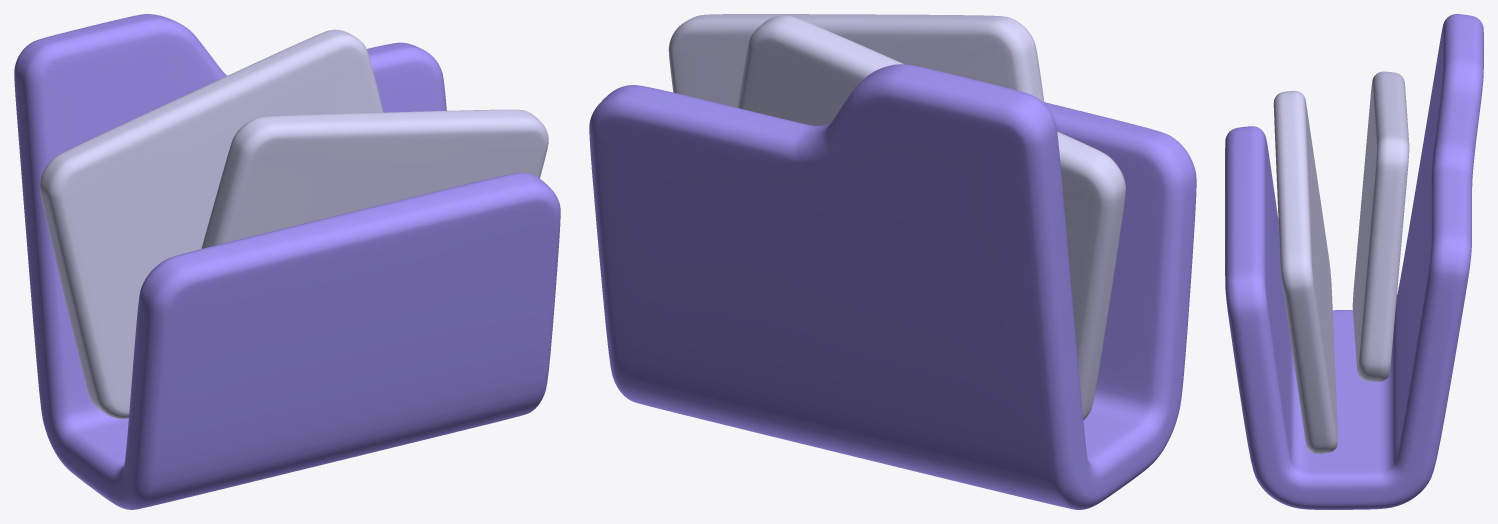
File: FileFolder.glb
3 views of the same model, side by side, from view 1: azimuth 30°, elevation 25°; view 2: azimuth 150°, elevation 25°; view 3: azimuth 270°, elevation 25° (orthographic). The views are drawn at different scales.
Parts seen in each view (by area): view 1: Plane, Plane.002, Plane.001; view 2: Plane, Plane.002, Plane.001; view 3: Plane, Plane.001, Plane.002.
Part boxes in pixels (box(x1,y1,x2,y2)): Plane: box(14, 14, 560, 509); Plane.002: box(39, 29, 383, 418); Plane.001: box(201, 109, 548, 248); Plane: box(589, 64, 1196, 509); Plane.002: box(737, 15, 1125, 420); Plane.001: box(668, 14, 1044, 107); Plane: box(1225, 14, 1483, 509); Plane.001: box(1273, 90, 1337, 453); Plane.002: box(1352, 71, 1409, 382).
Bounding box in the file's own units: 4.22 × 3.56 × 2.46.
